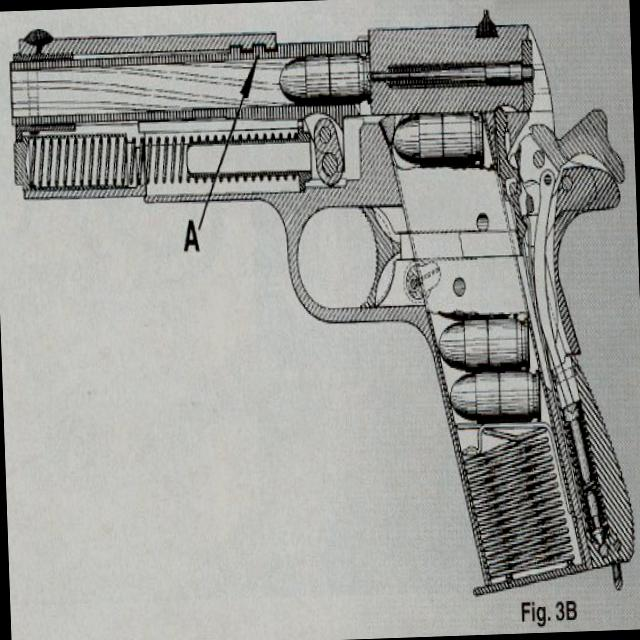handgun: (6, 4, 638, 612)
